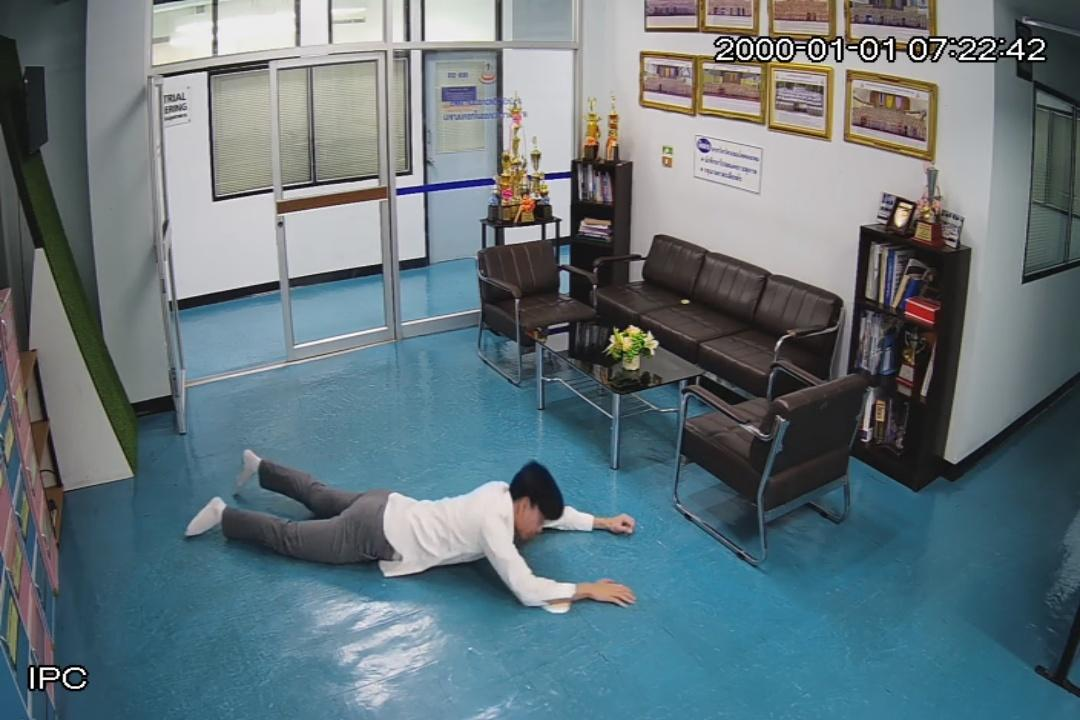fall: (195, 455, 636, 612)
